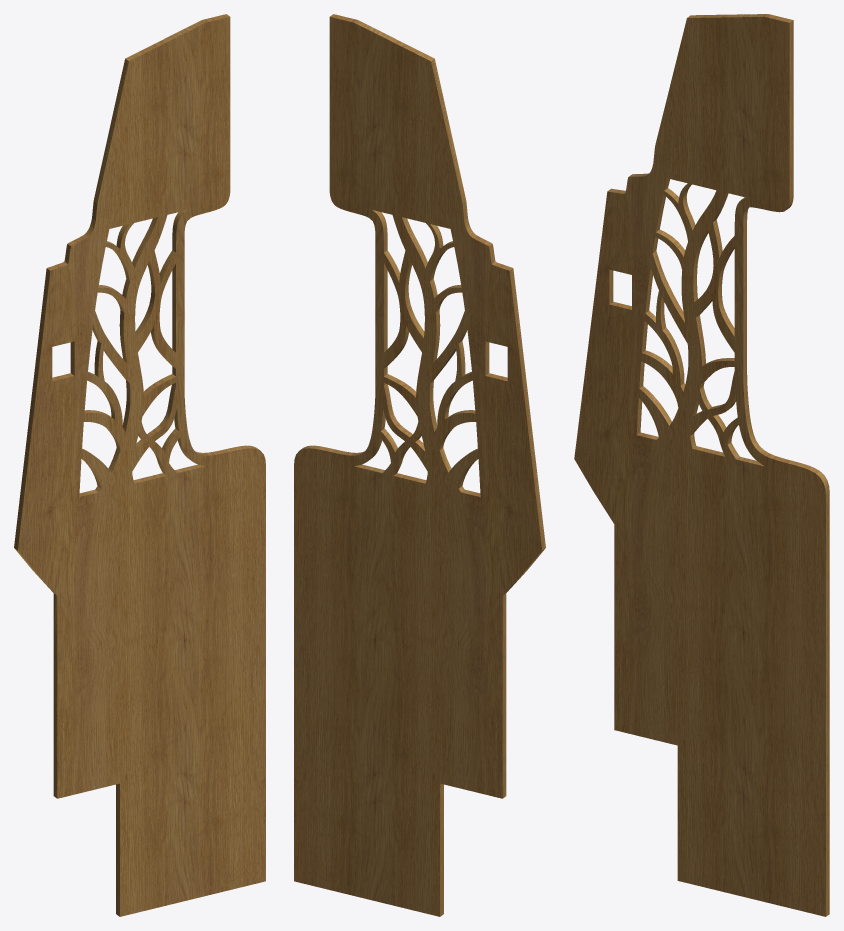
The model's file is partition-wall-three.glb.
3 renders of one model, left to right at view 1: azimuth 30°, elevation 25°; view 2: azimuth 150°, elevation 25°; view 3: azimuth 330°, elevation 25°, orthographic.
Size of the model in its own units: 0.5645 by 1.9 by 0.0149.
1 material, 1 textured.
